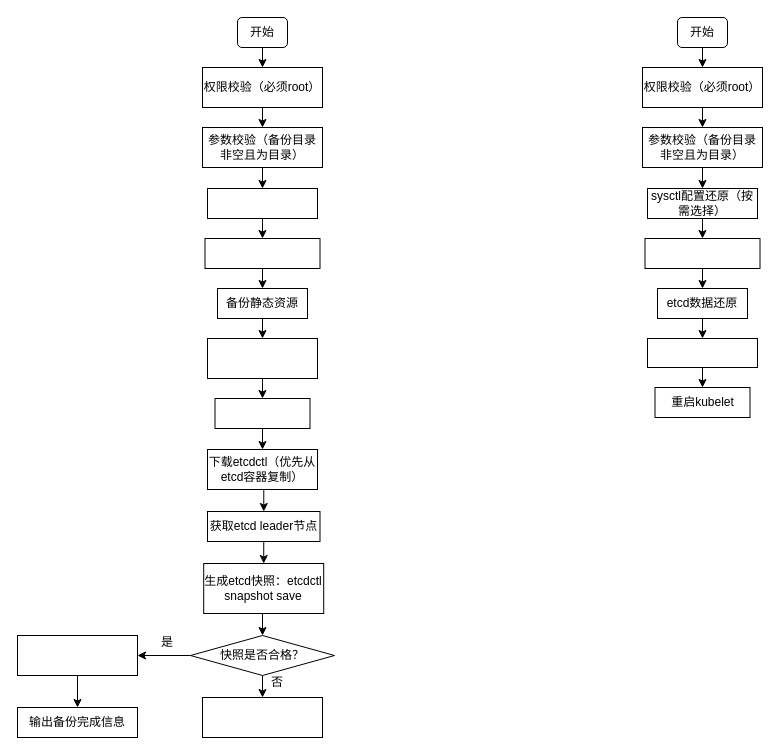
The diagram is 780 pixels wide and 755 high, and some of its shapes have lost their labels. Here are the shapes that lost their labels. From the top down, the box of each, then its label:
(206, 188, 318, 218): 创建备份目录（若不存在）
(204, 238, 320, 268): 校验etcd证书（CA/CERT/KEY）
(644, 238, 760, 268): pki证书还原（按需选择）
(206, 338, 318, 378): 备份证书（过滤临时证书）
(646, 338, 758, 368): 启动静态pod
(214, 398, 310, 428): 备份sysctl
(16, 634, 138, 676): 清理旧备份：保留7份，删除过期
(202, 696, 322, 738): 报错退出，不保留残缺快照
